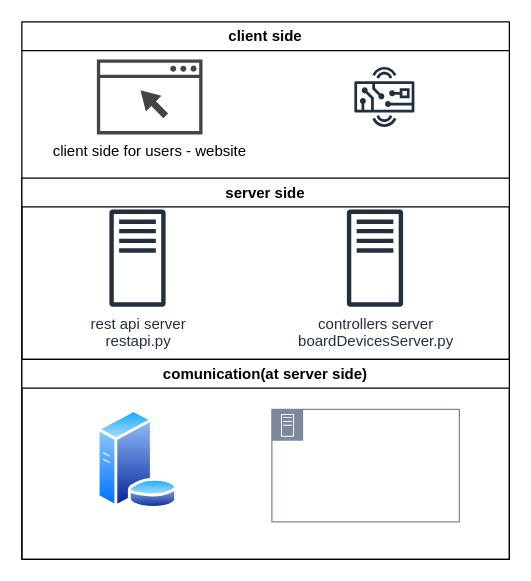
Image size: 531x581. Some labels were removed from this diagram. The shapes that lost their labels are listed below. From the top down, each one's box as (x1, y1, x2, y2) in pixels, then its label:
(346, 58, 422, 134): controller - arduino(by default)
(96, 409, 178, 509): Database communications database.py
(271, 408, 459, 522): client_coms.py - bytes over tcp restapi.py - flask for http
